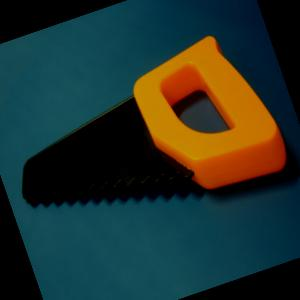serrote: (0, 22, 293, 252)
